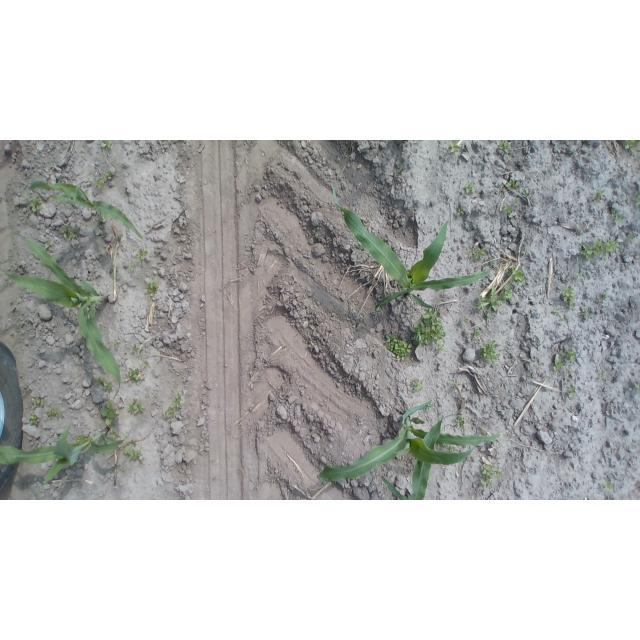Maize: (332, 165, 494, 315), (0, 234, 120, 400), (317, 403, 499, 482), (23, 181, 145, 244), (0, 424, 124, 485), (381, 414, 443, 500)
Weeds: (410, 307, 446, 351), (476, 284, 512, 321), (580, 238, 620, 263), (385, 333, 411, 362), (96, 400, 121, 427), (552, 348, 577, 372), (480, 464, 503, 489), (123, 440, 145, 465), (165, 391, 183, 419), (479, 340, 501, 362), (507, 264, 526, 284), (561, 284, 576, 308), (60, 224, 81, 241), (468, 244, 488, 260), (128, 396, 145, 414), (26, 196, 43, 213), (144, 280, 160, 297), (622, 141, 640, 156), (46, 406, 65, 420), (127, 368, 145, 381), (96, 377, 112, 391), (464, 180, 477, 196), (448, 140, 461, 156), (594, 188, 606, 204), (499, 140, 512, 154), (32, 396, 46, 409), (410, 379, 425, 391), (612, 211, 624, 226), (504, 179, 520, 190), (597, 292, 608, 308), (568, 386, 579, 401), (441, 443, 457, 453), (582, 308, 595, 320), (136, 248, 149, 260), (472, 329, 485, 340), (96, 140, 113, 148), (28, 414, 39, 426), (503, 204, 513, 217), (456, 414, 465, 428), (114, 233, 125, 244), (604, 481, 614, 493), (74, 435, 90, 442), (425, 403, 436, 413), (104, 171, 116, 180), (46, 241, 55, 252), (110, 428, 117, 441), (459, 316, 469, 325), (130, 343, 139, 353), (95, 180, 105, 189), (479, 428, 488, 437), (456, 207, 465, 216), (112, 339, 121, 348), (128, 261, 135, 272), (635, 190, 640, 205), (520, 188, 529, 196), (628, 233, 636, 242), (140, 360, 148, 369), (396, 164, 404, 173), (355, 240, 364, 248), (512, 197, 520, 205), (576, 273, 584, 280), (635, 382, 640, 392), (551, 308, 561, 313), (520, 246, 526, 254), (565, 371, 572, 377), (600, 374, 606, 381), (559, 316, 563, 324), (74, 460, 80, 465), (332, 482, 337, 487), (116, 287, 120, 293), (390, 301, 393, 304)
